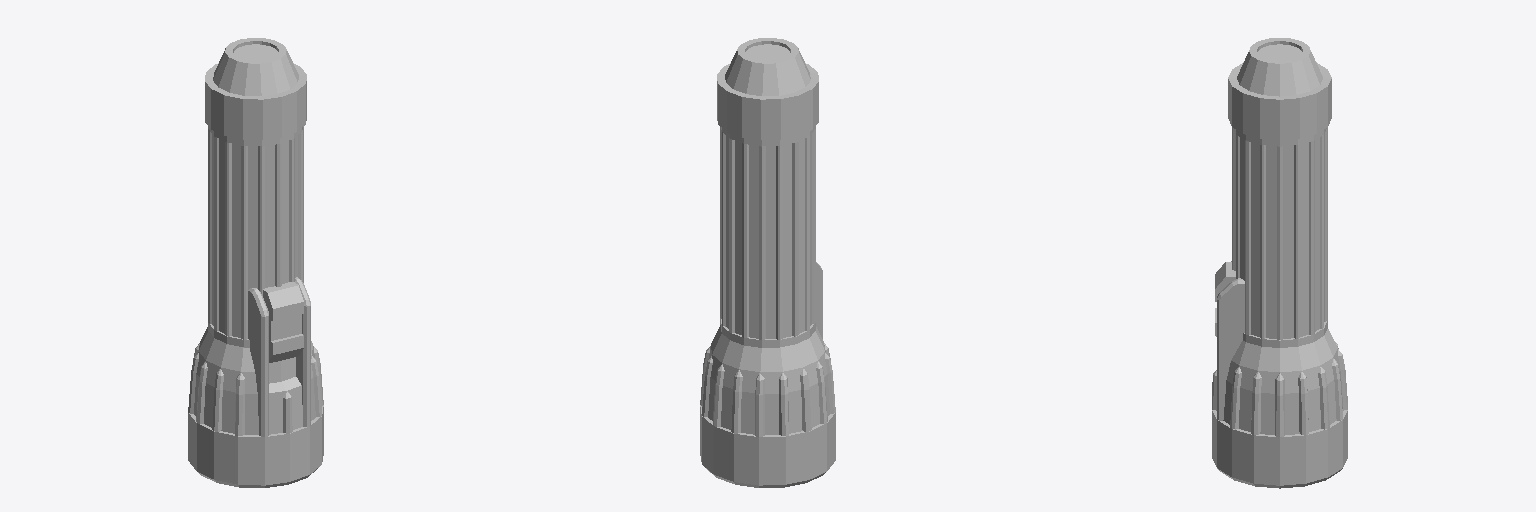
Rendered from flashlight.obj.
3 renders of one model, left to right at view 1: azimuth 30°, elevation 25°; view 2: azimuth 150°, elevation 25°; view 3: azimuth 270°, elevation 25°, orthographic.
Parts seen in each view (by area): view 1: Flashlight, flashlight_switch; view 2: Flashlight; view 3: Flashlight.
Boxes of the visible parts, x1,y1,x2,y2 form: Flashlight: [188, 38, 323, 487]; flashlight_switch: [263, 282, 303, 362]; Flashlight: [700, 38, 835, 487]; Flashlight: [1212, 38, 1347, 488].
Size of the model in its own units: 0.3782 by 1.25 by 0.3782.